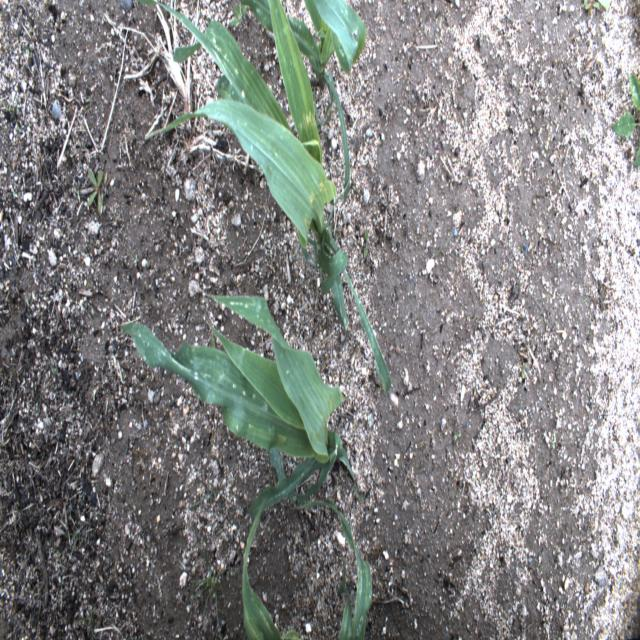crop: (137, 0, 392, 395), (121, 293, 357, 521), (235, 0, 366, 207), (242, 496, 372, 638)
weed: (185, 534, 230, 640), (612, 71, 640, 168), (87, 167, 111, 217), (0, 87, 20, 138), (432, 227, 454, 260), (190, 482, 216, 506), (230, 1, 250, 32), (65, 533, 88, 554), (78, 613, 95, 639), (584, 0, 610, 14), (364, 229, 371, 261), (453, 432, 462, 441), (521, 364, 525, 380)
